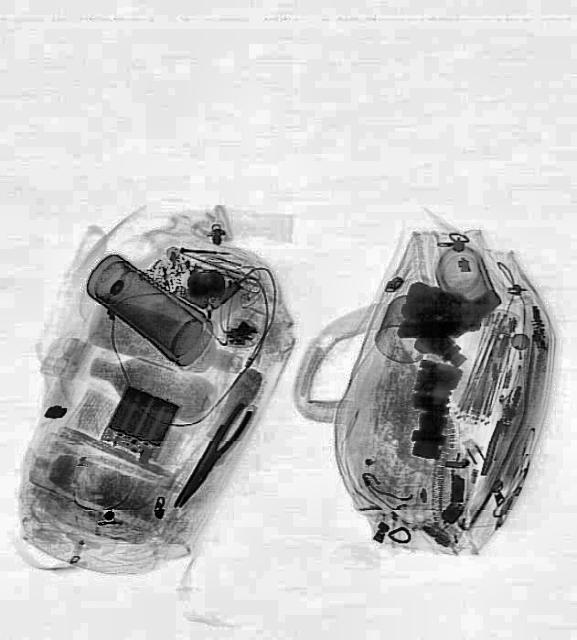Pliers: (171, 400, 255, 510)
